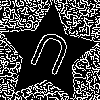U: (23, 28, 74, 85)
